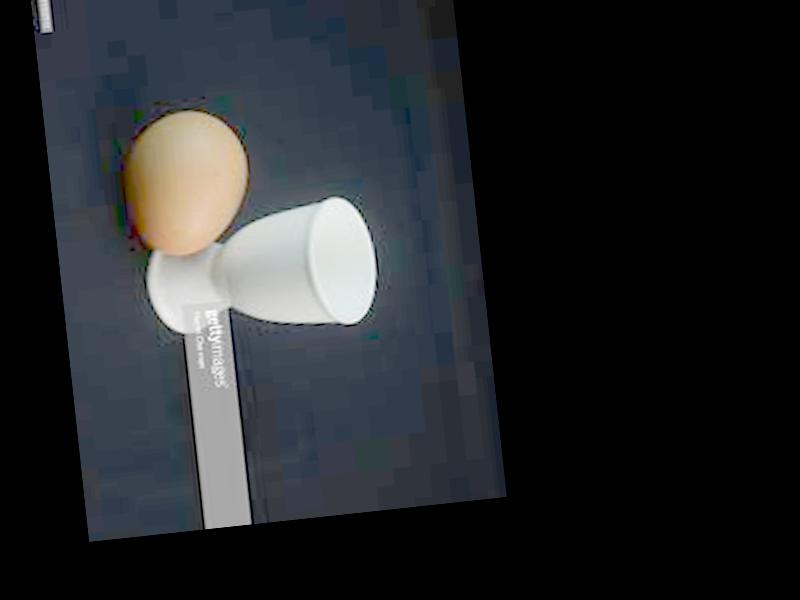Eggs: (126, 107, 255, 261)
